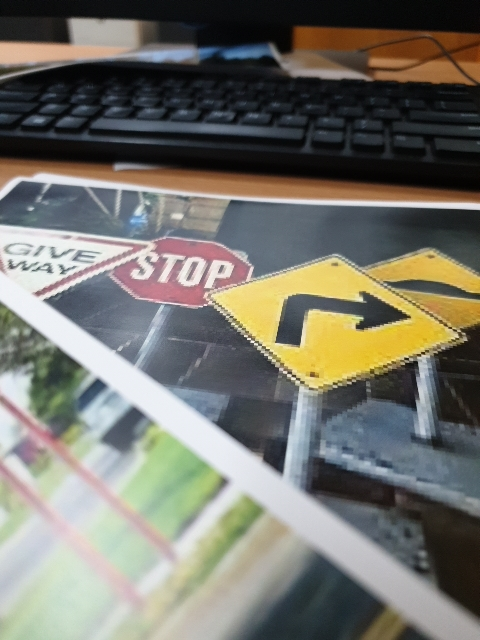giveway: (3, 211, 145, 300)
right: (223, 255, 456, 394)
stop: (117, 228, 260, 323)
